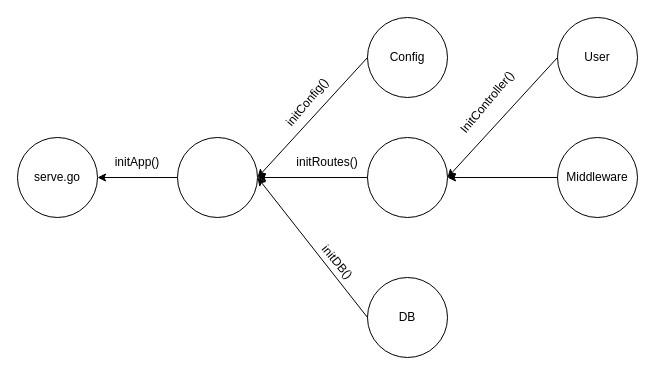
This 655x375 diagram has some shape labels left out. The shapes that lost their labels are listed below. From the top down, each one's centre as x and y in pixels, then its label:
At point 217,177: "App".
At point 407,177: "Routes".
